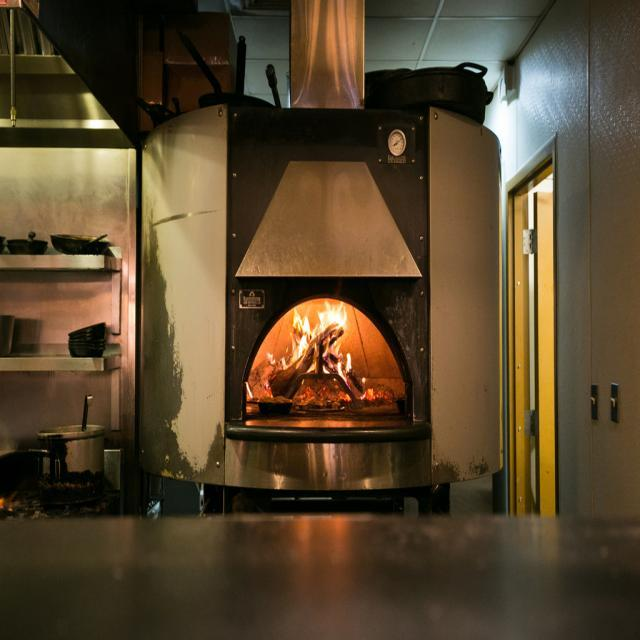Fire: (272, 302, 354, 400)
